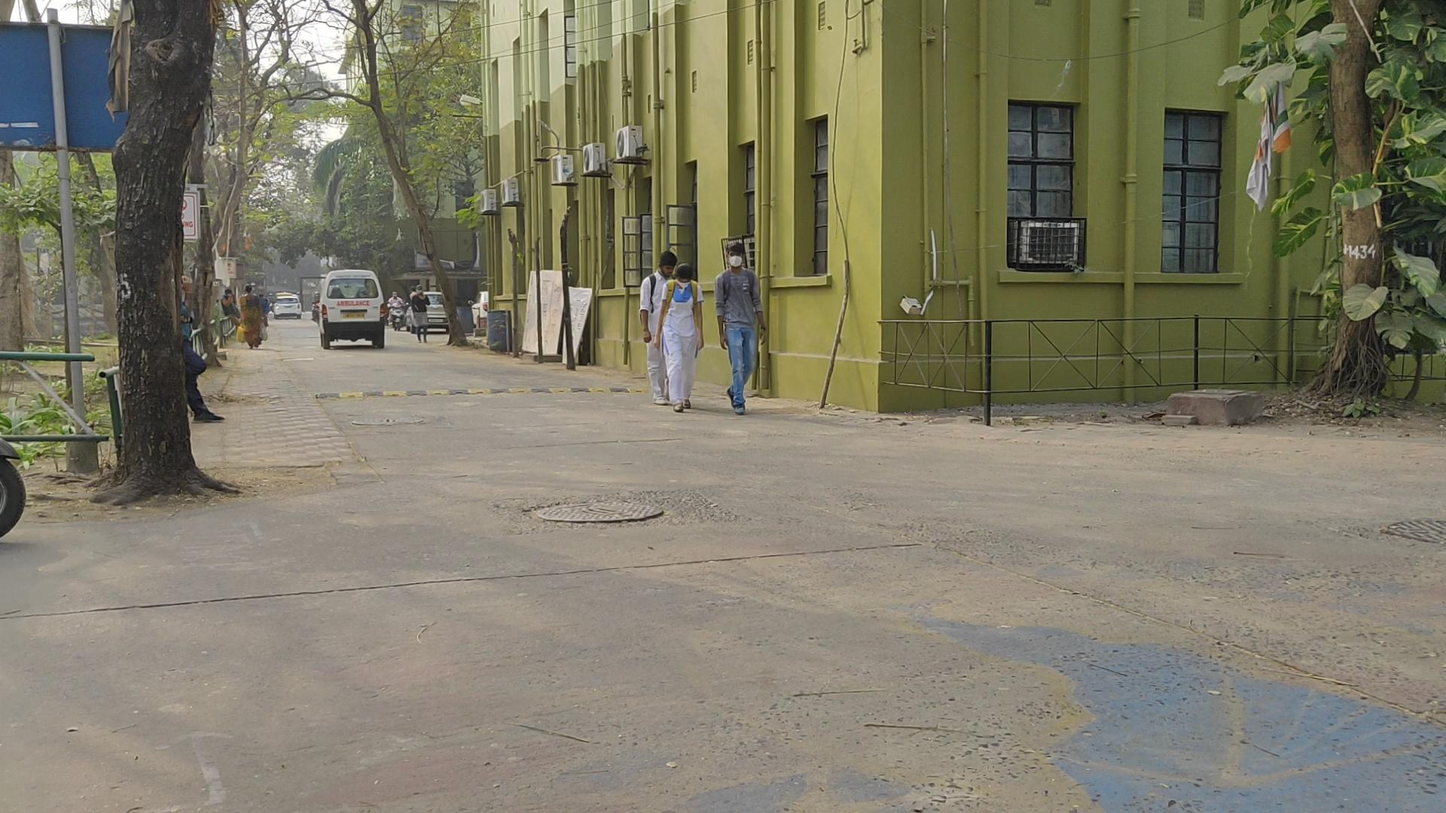bike: (387, 291, 407, 331)
car: (405, 291, 450, 334), (273, 294, 302, 320)
van: (319, 269, 387, 349)
